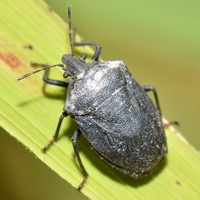insect: (17, 5, 169, 189)
